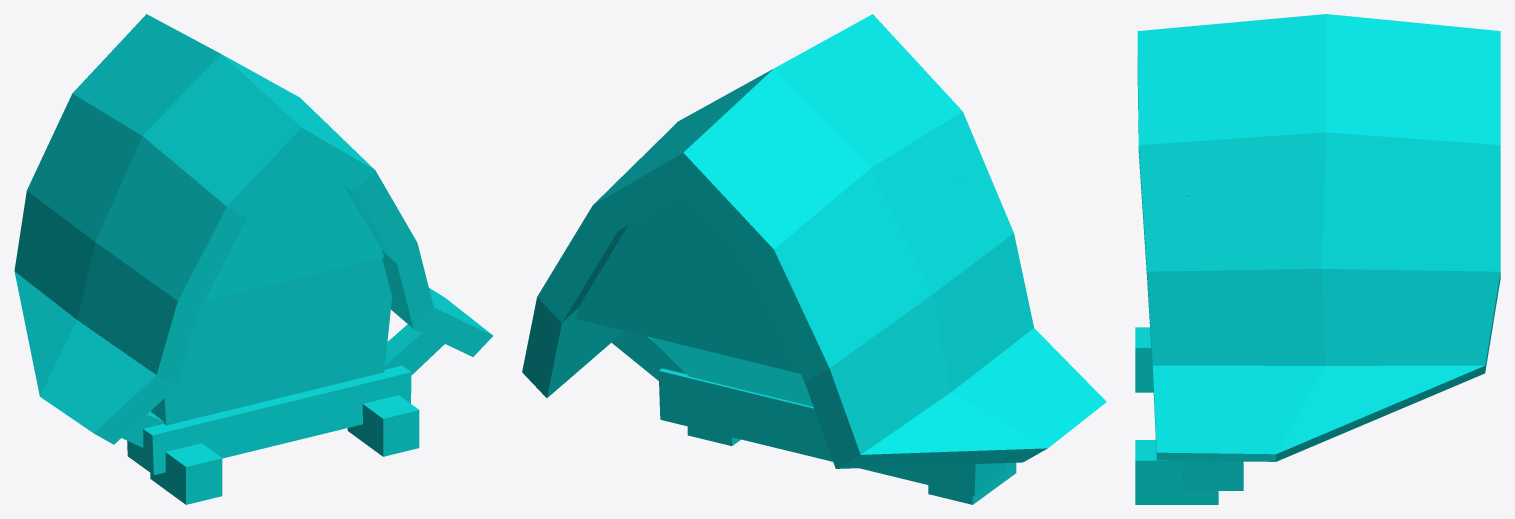
File: SM_Bld_Roof_Thatch_Preset_S_04_Collision.fbx
3 views of the same model, side by side, from view 1: azimuth 30°, elevation 25°; view 2: azimuth 150°, elevation 25°; view 3: azimuth 270°, elevation 25° (orthographic). The views are drawn at different scales.
Visible parts, largest first — view 1: SM_Bld_Roof_Thatch_Preset_S_04_Collision; view 2: SM_Bld_Roof_Thatch_Preset_S_04_Collision; view 3: SM_Bld_Roof_Thatch_Preset_S_04_Collision.
Part boxes in pixels (bbox=[...]): SM_Bld_Roof_Thatch_Preset_S_04_Collision: bbox=[14, 14, 493, 504]; SM_Bld_Roof_Thatch_Preset_S_04_Collision: bbox=[522, 14, 1106, 504]; SM_Bld_Roof_Thatch_Preset_S_04_Collision: bbox=[1135, 14, 1500, 504].
Size of the model in its own units: 523 by 447 by 349.
